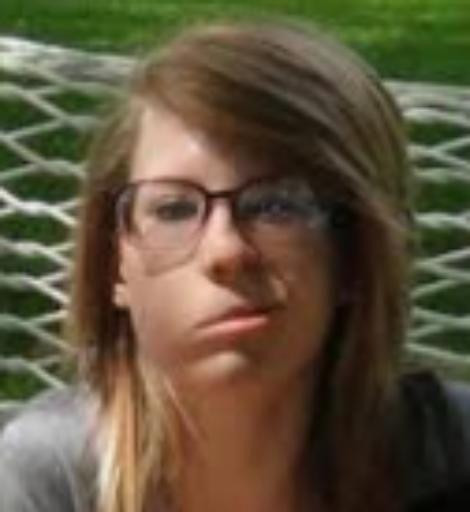right_eye: (145, 196, 200, 226)
right_lip_corner: (183, 313, 215, 342)
